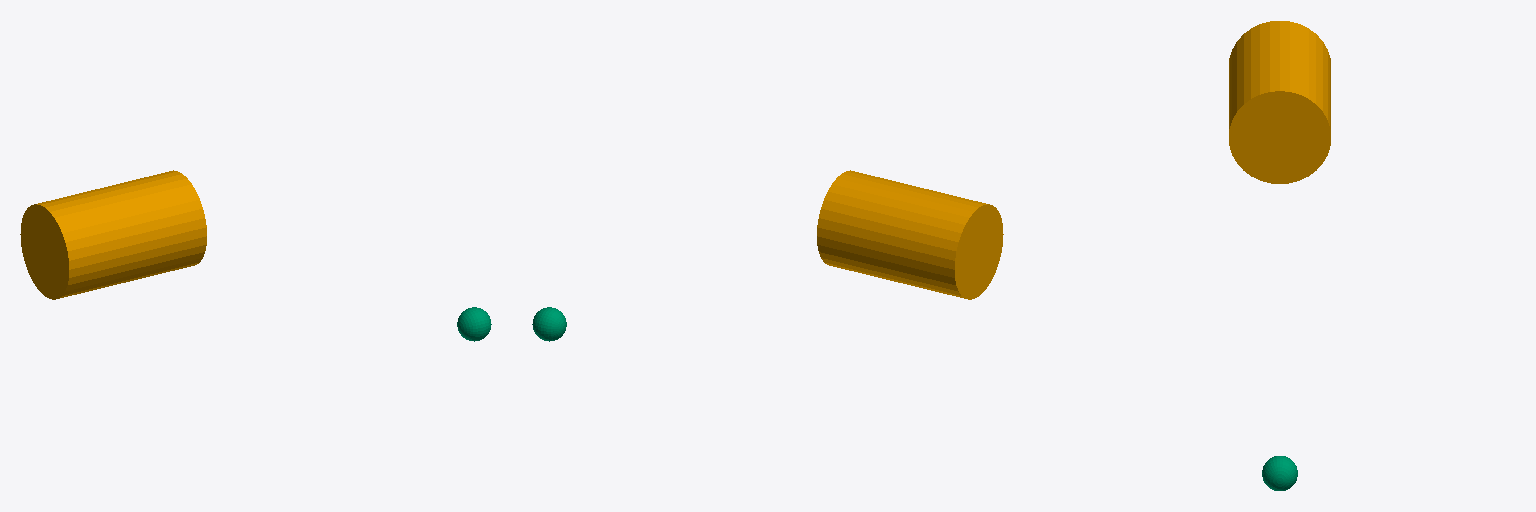
The robot description file, URDF, robot "hook_test":
<?xml version="1.0" ?>
<robot name="hook_test">
    <link name = 'base_link'/>
    <joint name='baselink2eebase' type='fixed'>
        <origin rpy="0 0 0" xyz="0 0 0"/>
        <parent link="base_link"/>
        <child link="ee_base"/>
    </joint>
    <link name="ee_base"/>
    <joint name="ee_x" type="prismatic">
        <origin rpy="0 0 0" xyz="0 0 0"/>
        <parent link="ee_base"/>
        <child link="ee_x_link"/>
        <axis xyz="1 0 0"/>
        <limit effort="100.0" lower="-1.0" upper="1.0" velocity="5.0"/>
    </joint>
    <link name = 'ee_x_link'/>
    <joint name="ee_y" type="prismatic">
        <origin rpy="0 0 0" xyz="0 0 0"/>
        <parent link="ee_x_link"/>
        <child link="ee_y_link"/>
        <axis xyz="0 1 0"/>
        <limit effort="100.0" lower="-1.0" upper="1.0" velocity="5.0"/>
    </joint>
    <link name = 'ee_y_link'/>
    <joint name="ee_z" type="prismatic">
        <origin rpy="0 0 0" xyz="0 0 0"/>
        <parent link="ee_y_link"/>
        <child link="ee_z_link"/>
        <axis xyz="0 0 1"/>
        <limit effort="100.0" lower="-1.0" upper="1.0" velocity="5.0"/>
    </joint>
    <link name = 'ee_z_link'/>
    <joint name="ee_rx" type="revolute">
        <origin rpy="0 0 0" xyz="0 0 0"/>
        <parent link="ee_z_link"/>
        <child link="ee_rx_link"/>
        <axis xyz="1 0 0"/>
        <limit effort="10.0" lower="-1.0" upper="1.0" velocity="5.0"/>
    </joint>
    <link name = 'ee_rx_link'/>
    <joint name="ee_ry" type="revolute">
        <origin rpy="0 0 0" xyz="0 0 0"/>
        <parent link="ee_z_link"/>
        <child link="ee_ry_link"/>
        <axis xyz="0 1 0"/>
        <limit effort="10.0" lower="-1.0" upper="1.0" velocity="5.0"/>
    </joint>
    <link name = 'ee_ry_link'/>
    <joint name="ee_rz" type="revolute">
        <origin rpy="0 0 0" xyz="0 0 0"/>
        <parent link="ee_z_link"/>
        <child link="ee_rz_link"/>
        <axis xyz="0 0 1"/>
        <limit effort="10.0" lower="-1.0" upper="1.0" velocity="5.0"/>
    </joint>
    <link name="ee_rz_link"/>
    <joint name="ee2hand_joint" type="fixed">
        <origin rpy="0 1.57 0" xyz="0 0 0"/>
        <parent link="ee_rz_link"/>
        <child link="hand_base"/>
    </joint>
    <link name="hand_base">
        <visual>
            <geometry>
                <cylinder length="0.065" radius="0.02"/>
            </geometry>
        </visual>
        <collision>
            <geometry>
                <cylinder length="0.065" radius="0.031"/>
            </geometry>
        </collision>
    </link>
    <joint name="hand2hook" type="fixed">
        <origin rpy="-1.57 0 -1.57" xyz="-0.031 0.031 0.0425"/>
        <parent link="hand_base"/>
        <child link="hook"/>
    </joint>
    <link name="hook">
        <visual>
          <origin xyz="0.031 0.01 0.031" rpy="3.14159265 0 1.57"/>
          <geometry>
              <mesh filename="./meshes/ur3/visual/hook4door_sagano_san.dae" scale="0.001 0.001 0.001" />
          </geometry>
      </visual>        <collision>
            <geometry>
                <mesh filename="./meshes/ur3/visual/hook4door_v3.obj"/>
            </geometry>
            <origin rpy="1.57 0 0" xyz="0 0 0"/>
        </collision>
    </link>
    <joint name='hook_finger' type='fixed'>
        <origin rpy="0 0 0" xyz="0.08 0 0.17"/>
        <parent link='hand_base'/>
        <child link='hook_finger'/>
    </joint >
    <link name='hook_finger'>
        <visual>
            <geometry>
                <sphere radius='0.007'/>
            </geometry>
        </visual>
    </link>
</robot>

--- Render facts (derived) ---
Views: 3 orthographic renders of the robot side by side, from view 1: azimuth 30°, elevation 25°; view 2: azimuth 150°, elevation 25°; view 3: azimuth 270°, elevation 25°.
Robot: hook_test — 11 links, 10 joints (3 revolute, 3 prismatic, 4 fixed); root link base_link; default pose: all joints at 0.
Visible links, largest first — view 1: hand_base, hook_finger; view 2: hand_base, hook_finger; view 3: hand_base, hook_finger.
Boxes of the visible links, left/top/right/bottom form: hand_base: left=20, top=170, right=206, bottom=299; hook_finger: left=457, top=307, right=491, bottom=341; hand_base: left=817, top=170, right=1003, bottom=299; hook_finger: left=532, top=307, right=566, bottom=341; hand_base: left=1229, top=21, right=1330, bottom=183; hook_finger: left=1262, top=456, right=1297, bottom=490.
Size in the robot's own frame: 0.2096 by 0.04 by 0.1069 metres.
Meshes: 1 distinct files referenced, 0 mesh visuals loaded (none loaded); not drawn: 1 (reference not matched to a file when rendering).
